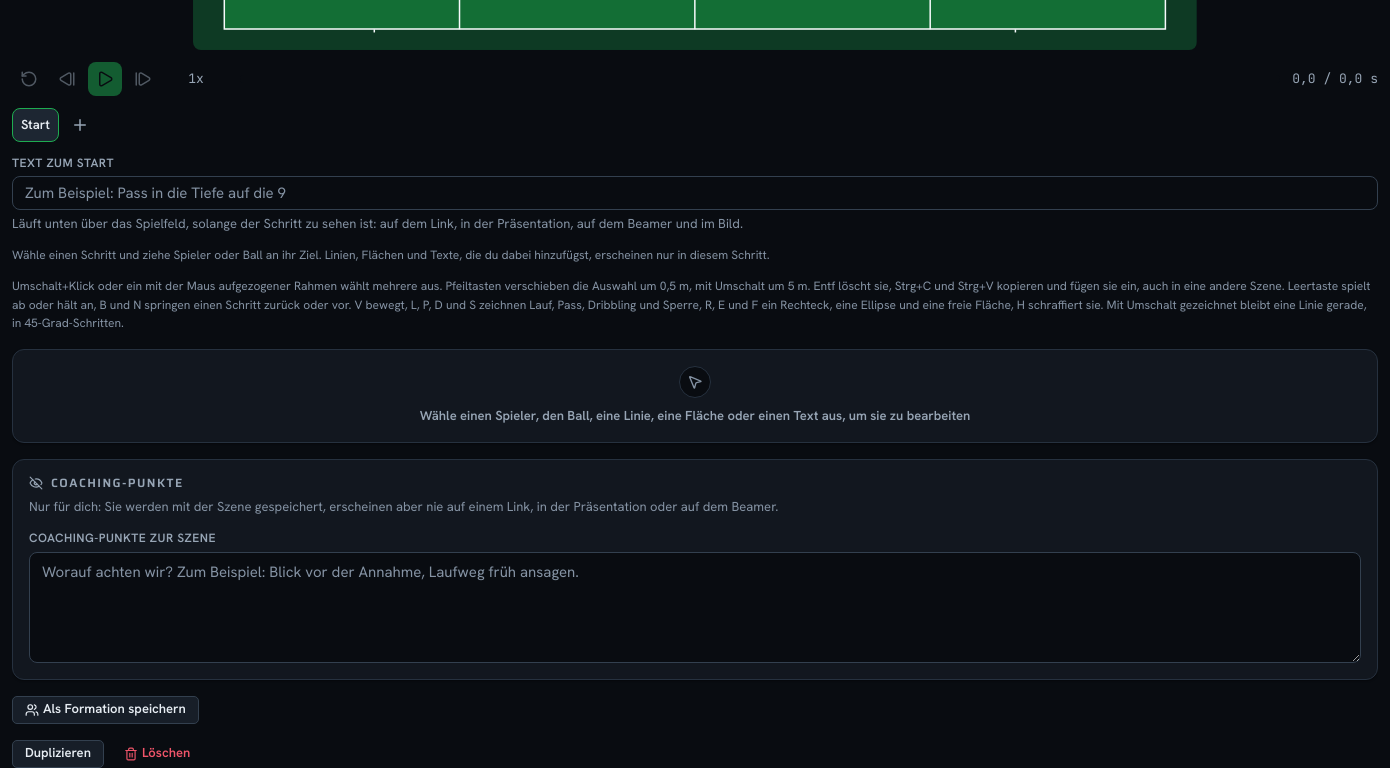
Test case: SaveAsFormation in the scene editor › opens a name and kind form that sends the board's scene
This screenshot has width=1390, height=768.
(page scrolled)
Click the button "Als Formation speichern".
click(105, 710)  # box [12, 696, 199, 724]
(page scrolled)
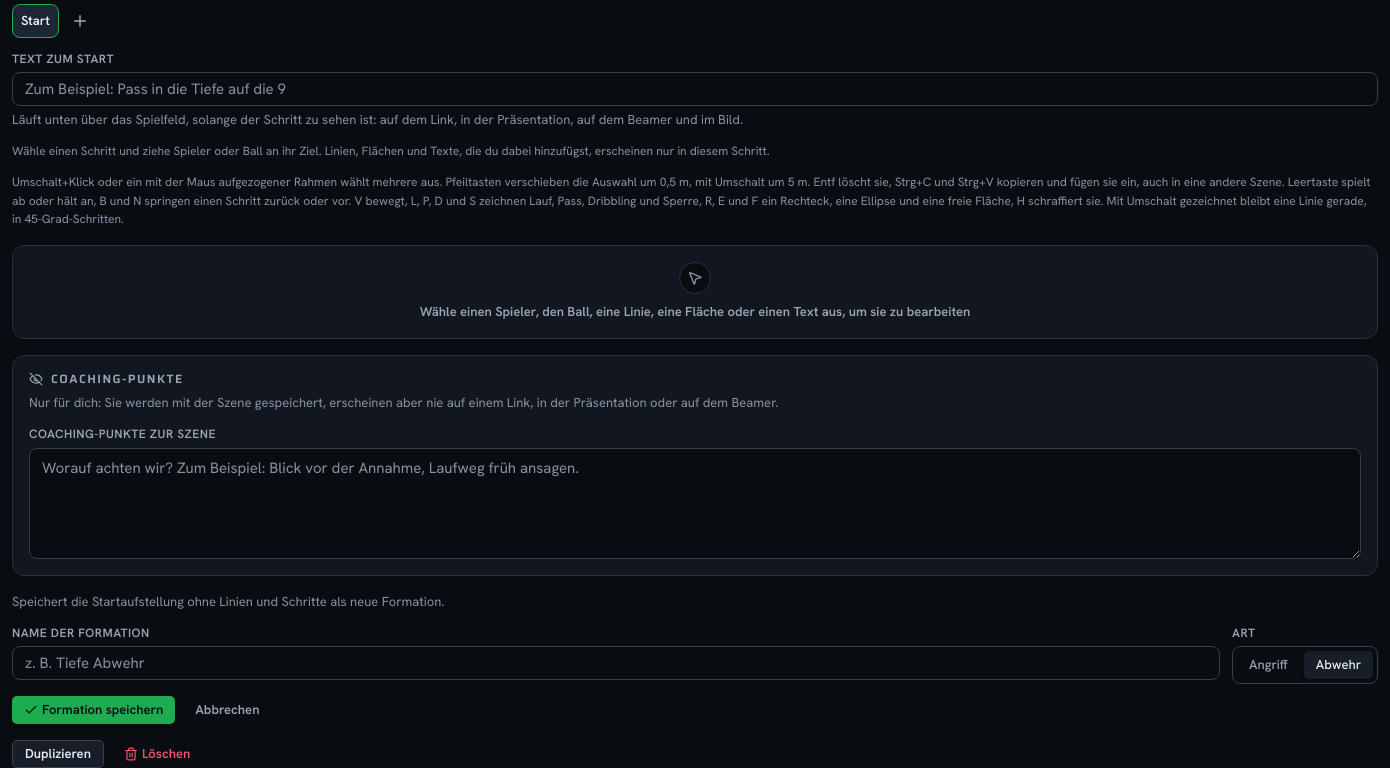
Result: the field labelled "Name der Formation" is shown at [12, 646, 1220, 680]
